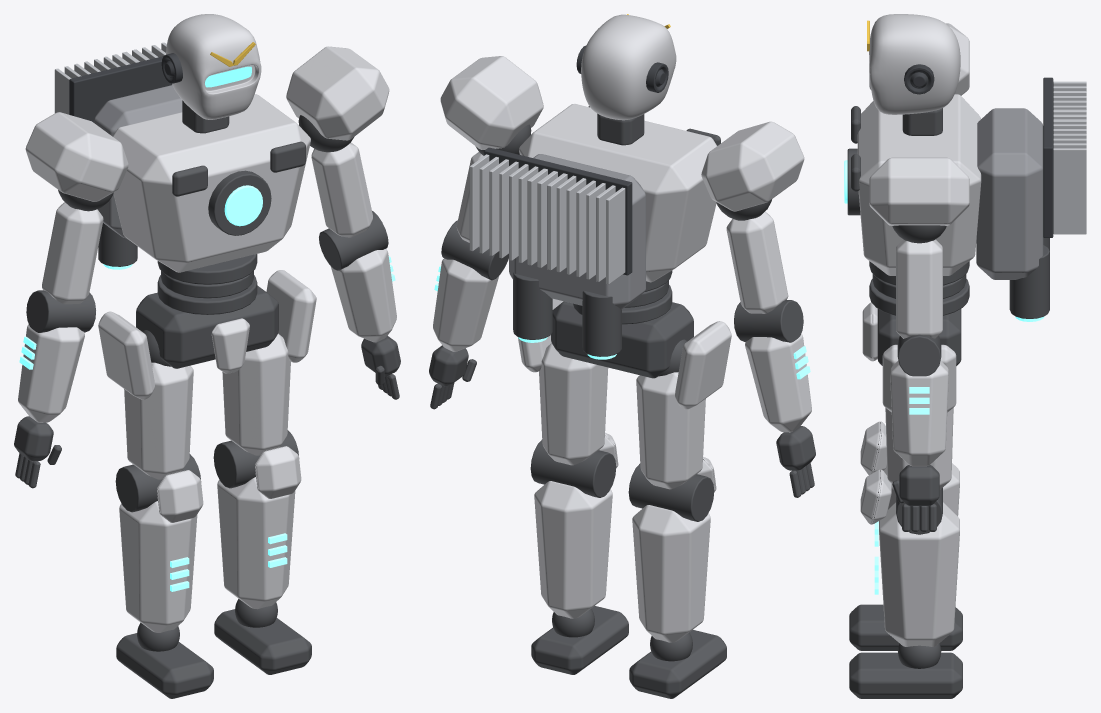
The model's file is androide_03.glb.
3 renders of one model, left to right at view 1: azimuth 30°, elevation 25°; view 2: azimuth 150°, elevation 25°; view 3: azimuth 270°, elevation 25°, orthographic.
Parts seen in each view (by area): view 1: Pecho_glb, Espinilla_1_glb, Espinilla_-1_glb, Cabeza_05_glb, Hombrera_1_glb, Hombrera_-1_glb, Muslo_1_glb, Muslo_-1_glb, Pelvis_glb, Antebrazo_-1_glb, Biceps_-1_glb, Antebrazo_1_glb (+30 smaller); view 2: Pecho_glb, Espinilla_-1_glb, Espinilla_1_glb, Disipador_aletas.001_glb, Cabeza_05_glb, Disipador_aletas_glb, Hombrera_1_glb, Muslo_1_glb, Hombrera_-1_glb, Muslo_-1_glb, Pelvis_glb, Mochila_glb (+22 smaller); view 3: Mochila_glb, Pecho_glb, Espinilla_1_glb, Cabeza_05_glb, Hombrera_1_glb, Antebrazo_1_glb, Pie_1_glb, Biceps_1_glb, Disipador_aletas.001_glb, Pie_-1_glb, Propulsor_1_glb, Pelvis_glb (+22 smaller).
Part boxes in pixels (x1,y1,x2,y2): Pecho_glb: (113,94,310,272); Espinilla_1_glb: (217,477,295,609); Espinilla_-1_glb: (119,501,197,632); Cabeza_05_glb: (166,14,261,119); Hombrera_1_glb: (286,46,389,140); Hombrera_-1_glb: (25,112,128,201); Muslo_1_glb: (222,333,290,455); Muslo_-1_glb: (124,362,193,479); Pelvis_glb: (136,285,278,368); Antebrazo_-1_glb: (18,324,84,422); Biceps_-1_glb: (42,202,103,304); Antebrazo_1_glb: (330,249,396,342); Pecho_glb: (519,104,716,282); Espinilla_-1_glb: (632,505,710,642); Espinilla_1_glb: (534,481,612,618); Disipador_aletas.001_glb: (469,154,567,270); Cabeza_05_glb: (581,14,676,120); Disipador_aletas_glb: (527,168,625,284); Hombrera_1_glb: (440,56,543,149); Muslo_1_glb: (539,343,608,465); Hombrera_-1_glb: (701,121,804,211); Muslo_-1_glb: (636,372,705,489); Pelvis_glb: (551,301,693,378); Mochila_glb: (509,154,645,309); Mochila_glb: (976,108,1043,279); Pecho_glb: (857,94,981,275); Espinilla_1_glb: (879,502,959,646); Cabeza_05_glb: (869,14,960,114); Hombrera_1_glb: (869,157,969,225); Antebrazo_1_glb: (890,360,948,466); Pie_1_glb: (849,652,962,698); Biceps_1_glb: (896,239,942,338); Disipador_aletas.001_glb: (1053,109,1086,234); Pie_-1_glb: (849,604,962,650); Propulsor_1_glb: (1009,245,1049,318); Pelvis_glb: (877,309,961,365).
Bounding box in the file's own units: 1.3 × 2.13 × 0.725.
